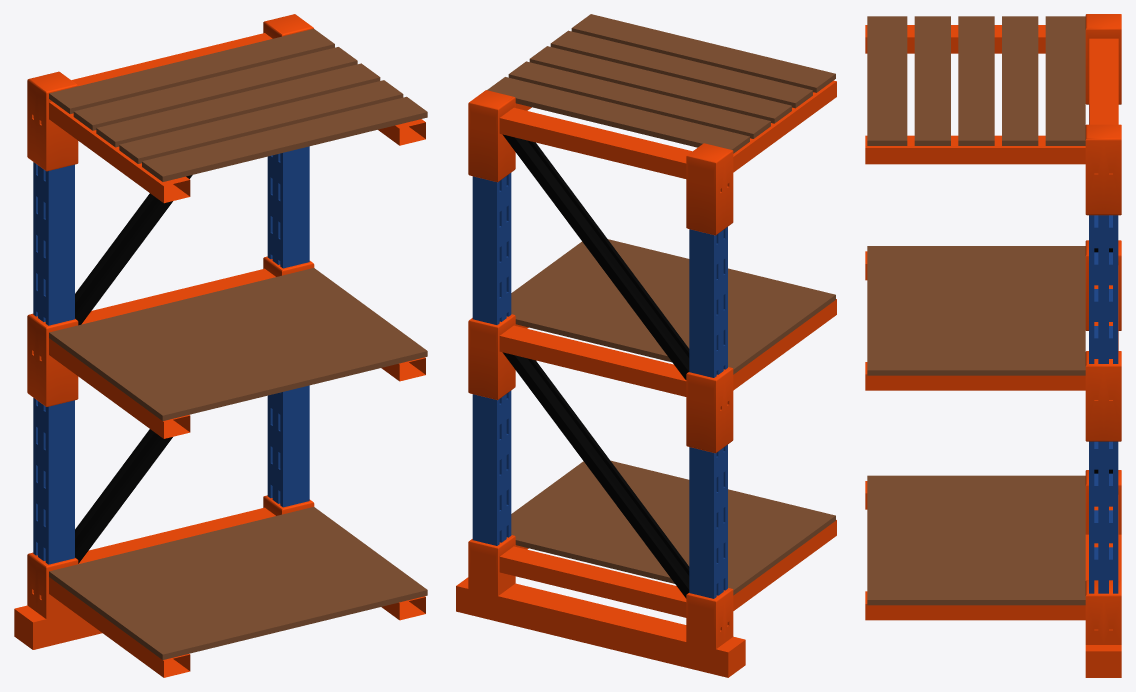
File: Shelf_06_end2.glb
The picture shows the model from 3 angles, left to right: view 1: azimuth 30°, elevation 25°; view 2: azimuth 150°, elevation 25°; view 3: azimuth 270°, elevation 25°; orthographic projection. The views are drawn at different scales.
Visible parts, largest first — view 1: Mesh_Shelf_06_end2; view 2: Mesh_Shelf_06_end2; view 3: Mesh_Shelf_06_end2.
Boxes of the visible parts, x1,y1,x2,y2 form: Mesh_Shelf_06_end2: (14, 14, 427, 677); Mesh_Shelf_06_end2: (456, 14, 836, 677); Mesh_Shelf_06_end2: (865, 14, 1121, 677).
Bounding box in the file's own units: 1.11 × 2 × 0.8729.
Materials: 1 (1 with a texture image).
